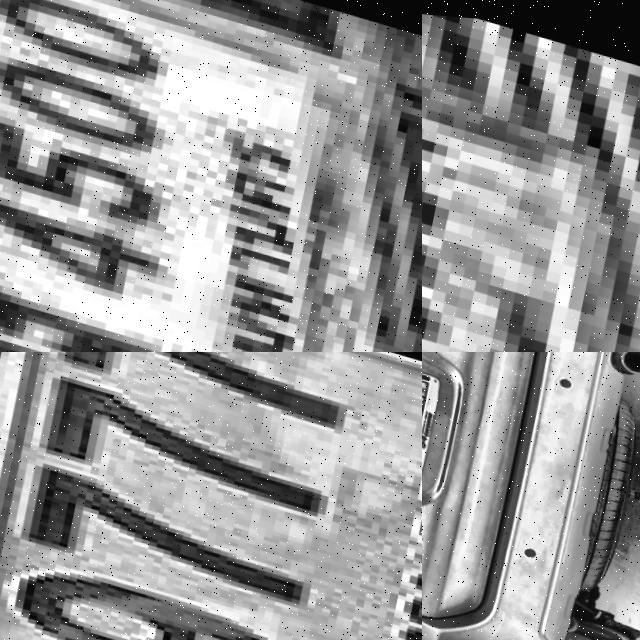license-plate: (0, 0, 422, 352), (0, 352, 422, 640), (422, 0, 640, 352), (422, 352, 446, 481)
